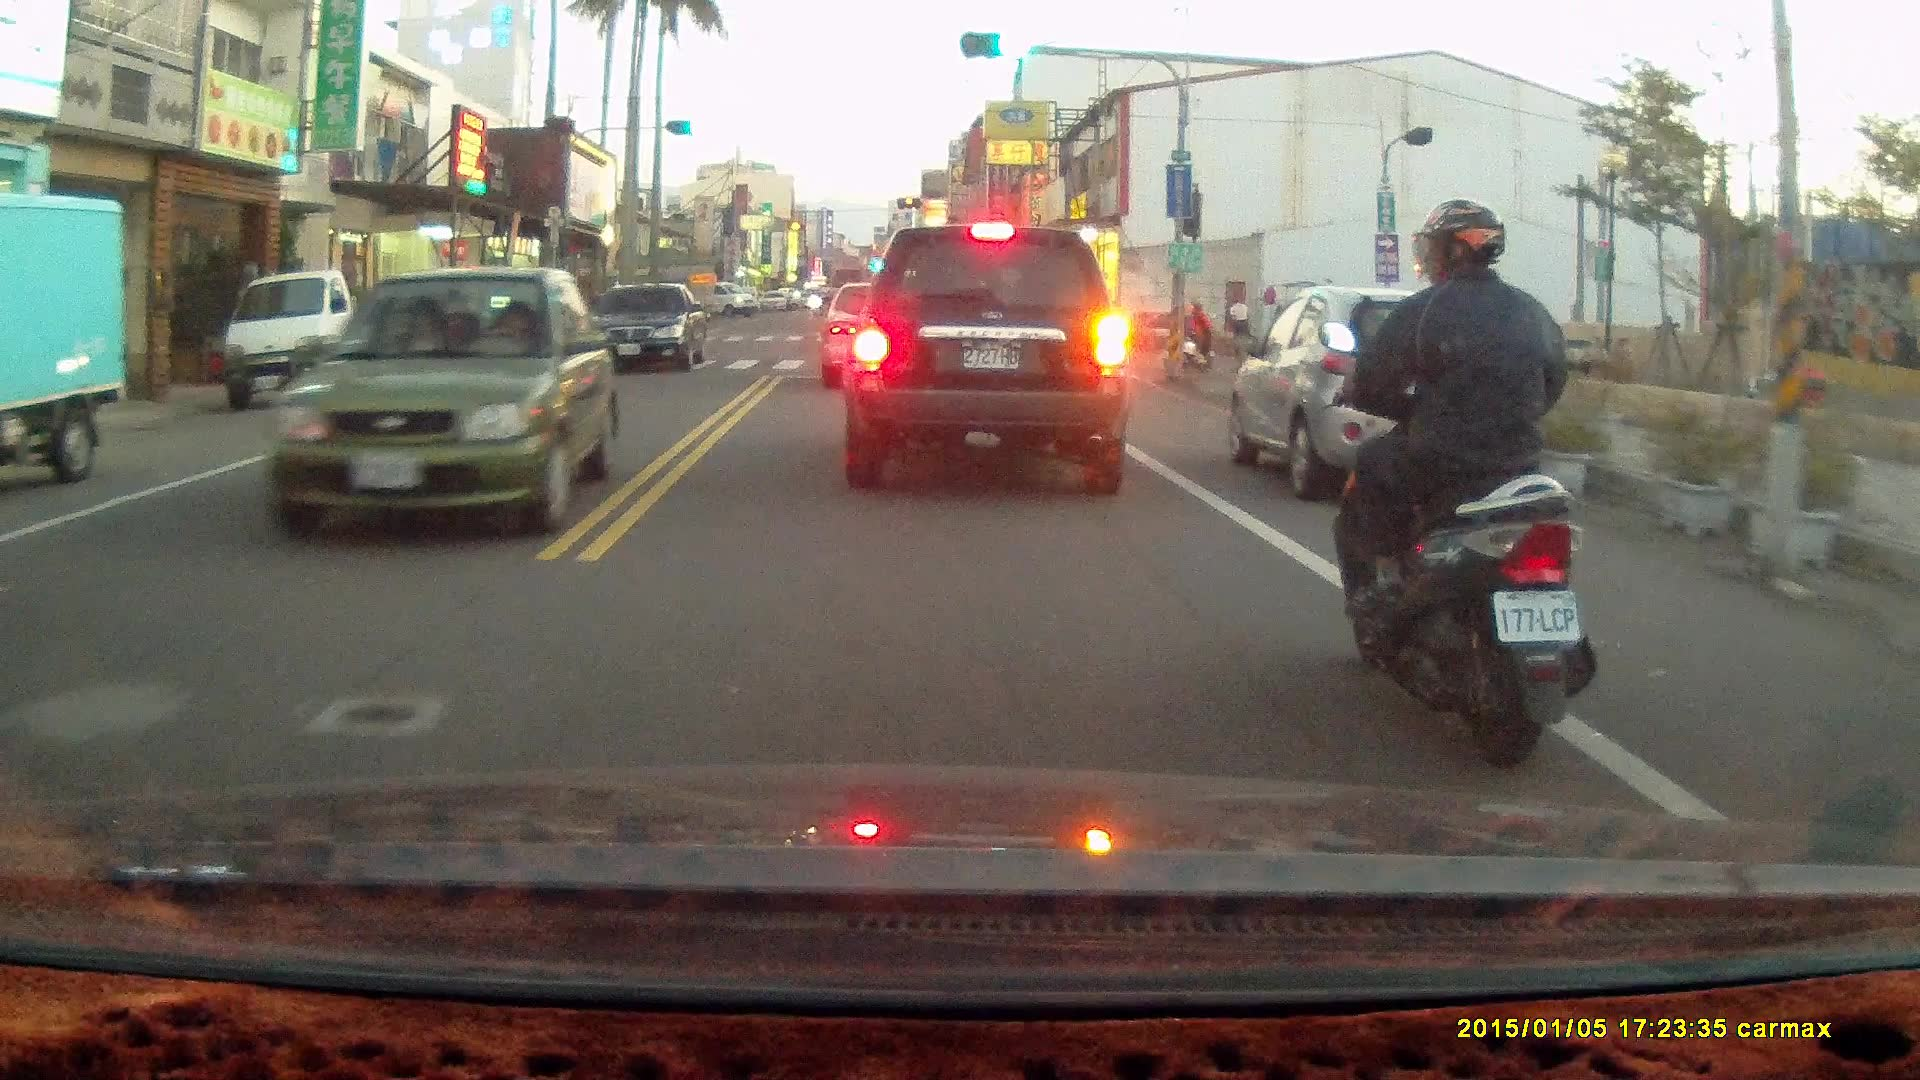pedestrian: (1226, 292, 1252, 361)
rider: (1323, 198, 1603, 776), (1163, 292, 1216, 372)
vehicle: (257, 265, 612, 541), (845, 223, 1136, 497), (1228, 286, 1547, 518), (1, 191, 130, 489), (222, 268, 406, 400), (822, 283, 939, 394), (585, 283, 713, 378)
